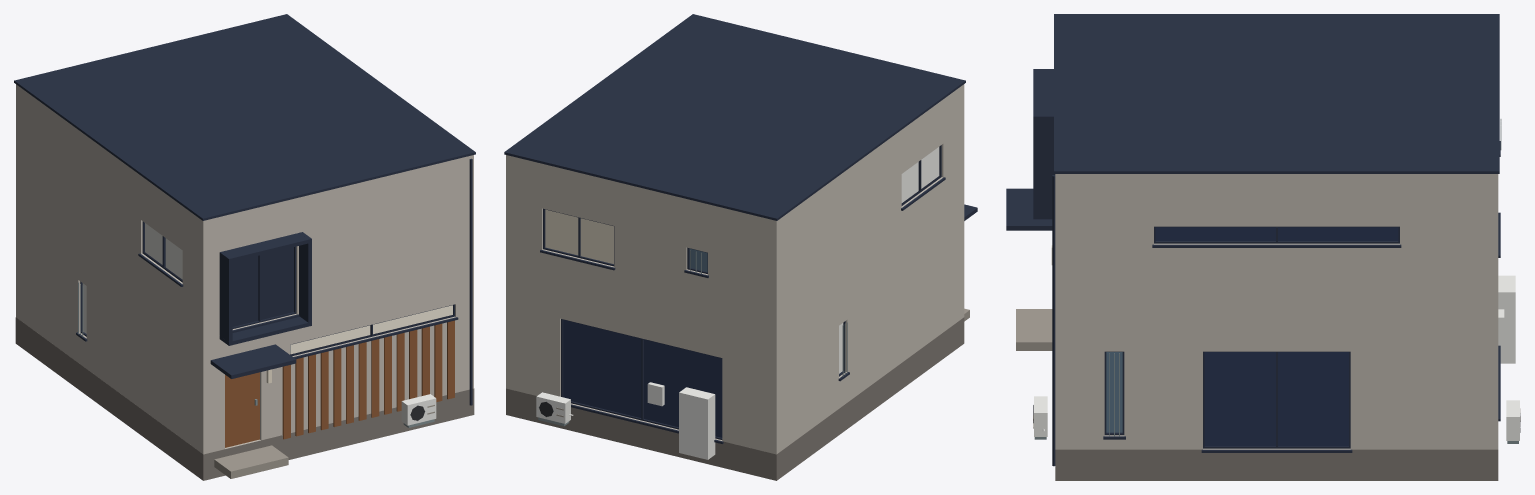
The model's file is tb_house_modern_2f_01_c.fbx.
The picture shows the model from 3 angles, left to right: view 1: azimuth 30°, elevation 25°; view 2: azimuth 150°, elevation 25°; view 3: azimuth 270°, elevation 25°; orthographic projection. The views are drawn at different scales.
Visible parts, largest first — view 1: tb_house_modern_2f_01_c; view 2: tb_house_modern_2f_01_c; view 3: tb_house_modern_2f_01_c.
Part boxes in pixels (x1,y1,x2,y2): tb_house_modern_2f_01_c: (14, 14, 475, 480); tb_house_modern_2f_01_c: (504, 14, 977, 480); tb_house_modern_2f_01_c: (1006, 14, 1520, 480).
Size of what is drawn, in the model's own units: 7.62 by 6.96 by 10.45.
Materials: 3 (3 with a texture image).
